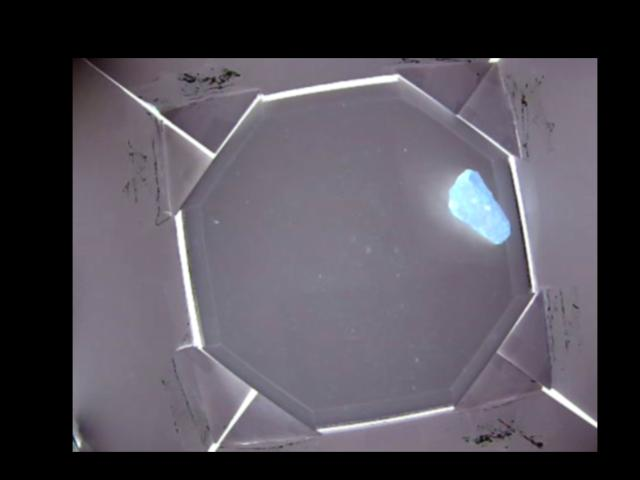Brisk: (447, 168, 512, 245)
